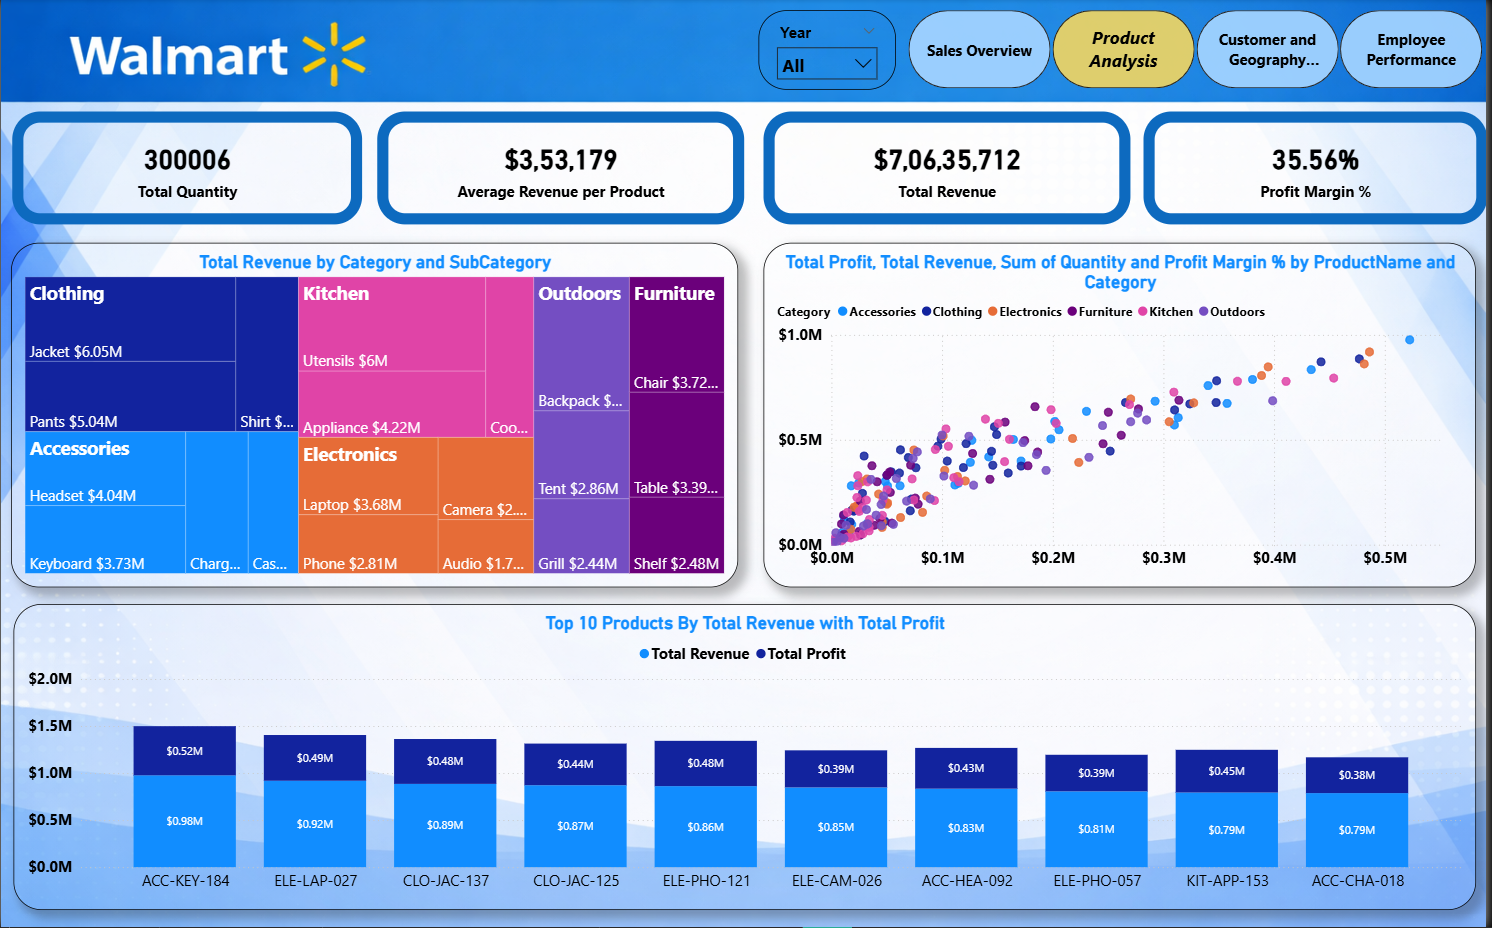

The page's visual inventory and layout, read from the dashboard file:
{"tool":"powerbi","page":{"name":"Product Analysis","canvas":[1600,1000],"ordinal":1},"visuals":[{"type":"pageNavigator","box":[977.5,12.6,620.4,84.8],"z":0,"group":"g1"},{"type":"treemap","fields":{"Details":["DimProduct.SubCategory"],"Group":["DimProduct.Category"],"Values":["MeasureTable.Total Revenue"]},"box":[11.1,262.5,783.1,371.5],"z":0},{"type":"card","fields":{"Values":["MeasureTable.Total Quantity"]},"box":[11.7,121.7,376.7,121.7],"z":1000},{"type":"scatterChart","fields":{"Category":["DimProduct.ProductName"],"Series":["DimProduct.Category"],"X":["MeasureTable.Total Profit"],"Y":["MeasureTable.Total Revenue"]},"box":[820.9,262.5,767.5,371.5],"z":1000},{"type":"card","fields":{"Values":["MeasureTable.Revenue per Product"]},"box":[405,121.7,395,121.7],"z":2000},{"type":"card","fields":{"Values":["MeasureTable.Total Revenue"]},"box":[821.7,121.7,395,121.7],"z":3000},{"type":"card","fields":{"Values":["MeasureTable.Profit Margin %"]},"box":[1230,121.7,370,121.7],"z":4000},{"type":"columnChart","fields":{"Category":["DimProduct.ProductName"],"Y":["MeasureTable.Total Revenue","MeasureTable.Total Profit"]},"box":[13.3,651.8,1575.1,329.3],"z":4000},{"type":"group","id":"g1","title":"Group 1","box":[816,12.6,781.9,86],"z":4001},{"type":"slicer","fields":{"Values":["DimDate.Year"]},"box":[816,13.3,148,85.4],"z":6000,"group":"g1"}]}

Visuals, with their boxes in screenshot pixels (x1, y1, x2, y2), scaled from the page's 1600x1000 canvas onto the 1492x928 screenshot:
pageNavigator: bbox(912, 12, 1490, 90)
treemap - DimProduct.SubCategory x DimProduct.Category: bbox(10, 244, 741, 588)
card - MeasureTable.Total Quantity: bbox(11, 113, 362, 226)
scatterChart - DimProduct.ProductName x DimProduct.Category: bbox(765, 244, 1481, 588)
card - MeasureTable.Revenue per Product: bbox(378, 113, 746, 226)
card - MeasureTable.Total Revenue: bbox(766, 113, 1135, 226)
card - MeasureTable.Profit Margin %: bbox(1147, 113, 1491, 226)
columnChart - DimProduct.ProductName x MeasureTable.Total Revenue: bbox(12, 605, 1481, 910)
"Group 1" group: bbox(761, 12, 1490, 92)
slicer - DimDate.Year: bbox(761, 12, 899, 92)
